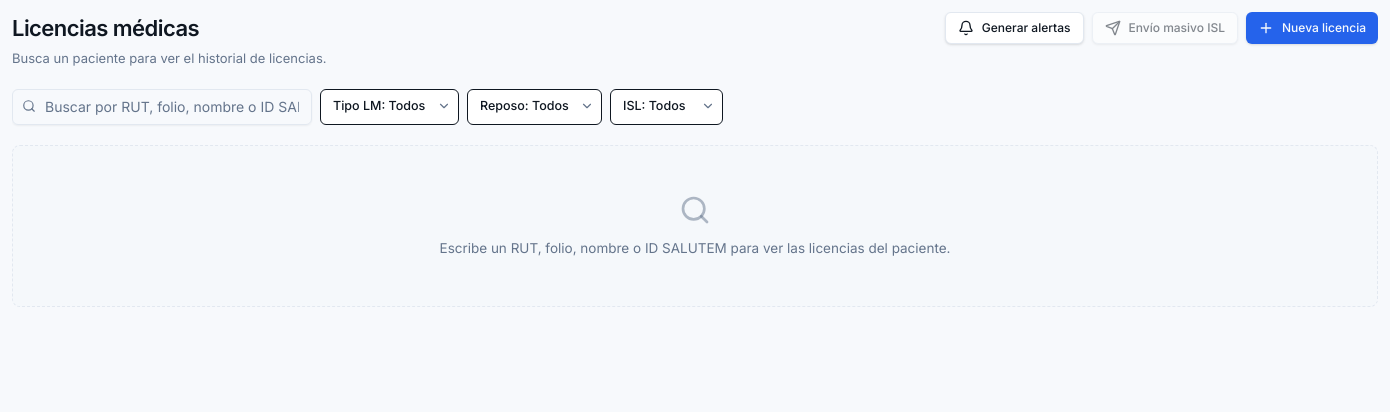
LicenciasPage — Envío masivo ISL › selects all rows via header checkbox and enables bulk button
The image size is (1390, 412).
Type "FOLIO-BULK" into the field with placeholder "Buscar por RUT, folio, nombre o ID SALUTEM".
click(162, 106); type("FOLIO-BULK")  # box [12,88,312,124]
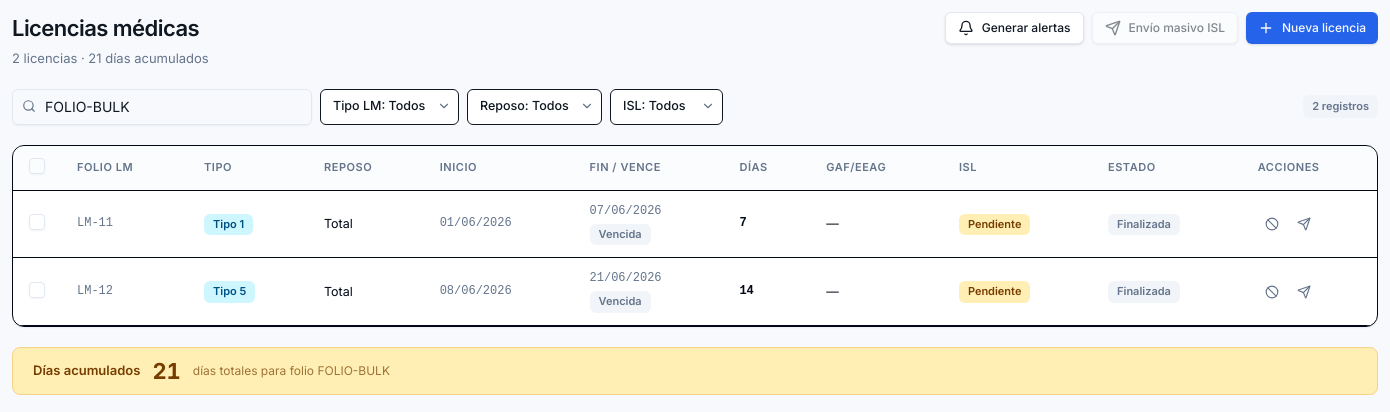
Click the checkbox named "Seleccionar todas las licencias".
click(37, 166)  # box [29,158,45,174]
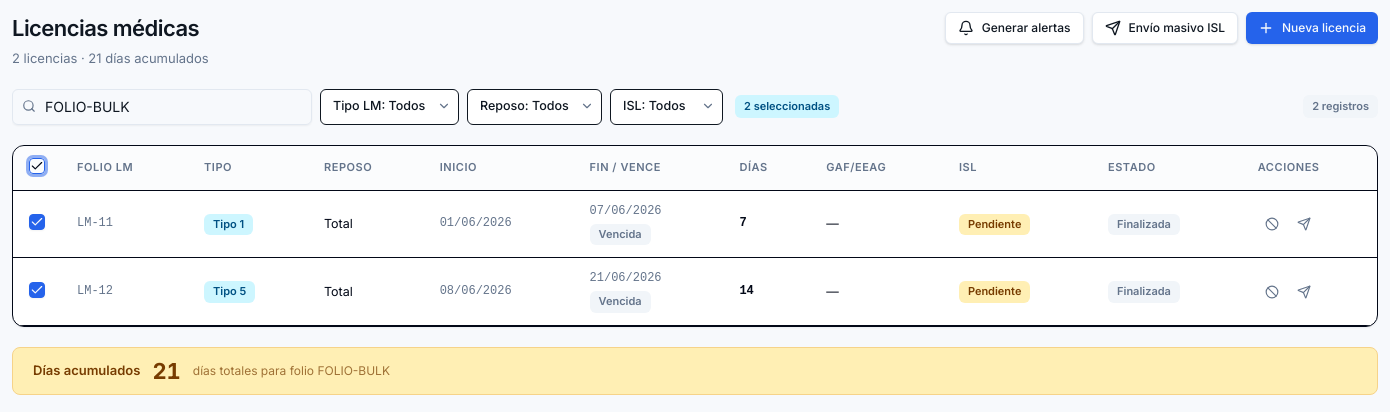
Now the button "Envío masivo ISL" is enabled, box [1092,12,1238,44]
